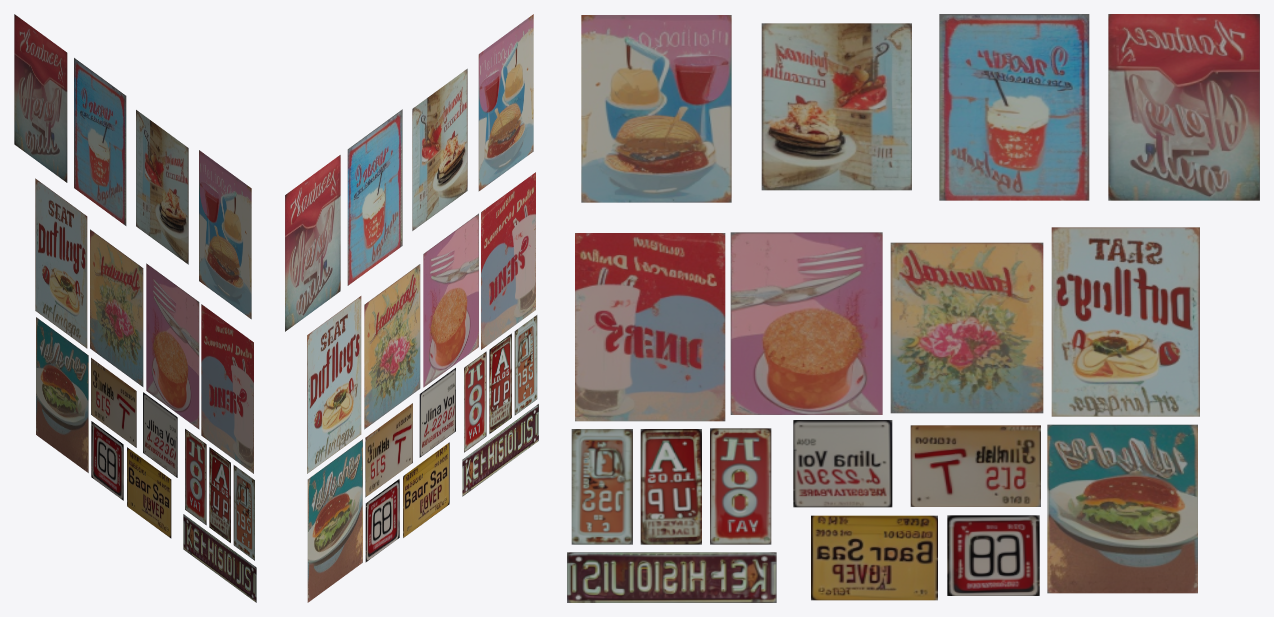
Rendered from Signboard.fbx.
3 views of the same model, side by side, from view 1: azimuth 30°, elevation 25°; view 2: azimuth 150°, elevation 25°; view 3: azimuth 270°, elevation 25° (orthographic). The views are drawn at different scales.
Parts seen in each view (by area): view 1: Signboard, Signboard_04, Signboard_07, Signboard_03, Signboard_01, Signboard_06, Signboard_05, Signboard_08, Signboard_02, Signboard_11, Signboard_16, Signboard_09 (+5 smaller); view 2: Signboard_03, Signboard, Signboard_01, Signboard_04, Signboard_07, Signboard_06, Signboard_05, Signboard_08, Signboard_02, Signboard_11, Signboard_16, Signboard_09 (+5 smaller); view 3: Signboard_07, Signboard, Signboard_03, Signboard_04, Signboard_01, Signboard_06, Signboard_05, Signboard_08, Signboard_02, Signboard_11, Signboard_09, Signboard_16 (+5 smaller).
Boxes of the visible parts, box(x1,y1,x2,y2) form: Signboard: box(14, 14, 67, 182); Signboard_04: box(35, 178, 87, 348); Signboard_07: box(201, 304, 253, 473); Signboard_03: box(199, 150, 251, 319); Signboard_01: box(74, 58, 126, 225); Signboard_06: box(146, 263, 199, 429); Signboard_05: box(90, 229, 143, 386); Signboard_08: box(36, 317, 88, 472); Signboard_02: box(136, 110, 188, 264); Signboard_11: box(127, 447, 171, 538); Signboard_16: box(183, 514, 256, 602); Signboard_09: box(91, 358, 136, 447); Signboard_03: box(478, 14, 533, 191); Signboard: box(285, 155, 340, 331); Signboard_01: box(347, 109, 402, 285); Signboard_04: box(307, 296, 361, 473); Signboard_07: box(481, 172, 535, 349); Signboard_06: box(423, 213, 478, 387); Signboard_05: box(364, 264, 420, 429); Signboard_08: box(307, 439, 362, 602); Signboard_02: box(412, 68, 467, 230); Signboard_11: box(403, 442, 449, 537); Signboard_16: box(462, 404, 538, 496); Signboard_09: box(365, 403, 412, 497); Signboard_07: box(575, 233, 725, 421); Signboard: box(1108, 14, 1259, 200); Signboard_03: box(581, 15, 731, 202); Signboard_04: box(1051, 227, 1199, 416); Signboard_01: box(939, 14, 1089, 200); Signboard_06: box(730, 232, 882, 414); Signboard_05: box(890, 242, 1043, 413); Signboard_08: box(1047, 424, 1197, 593); Signboard_02: box(761, 23, 911, 190); Signboard_11: box(811, 515, 937, 600); Signboard_09: box(910, 425, 1040, 506); Signboard_16: box(567, 552, 776, 602).
Size of the model in its own units: 3.7e-05 by 204 by 217.
